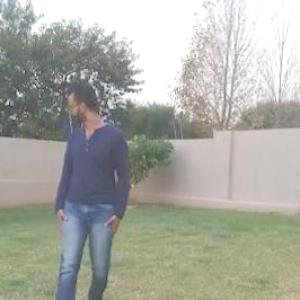follow: (32, 24, 146, 299)
